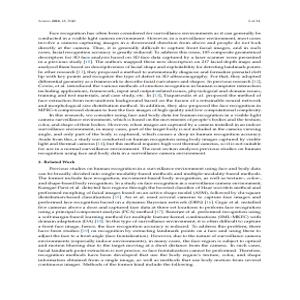text: (36, 28, 264, 268)
